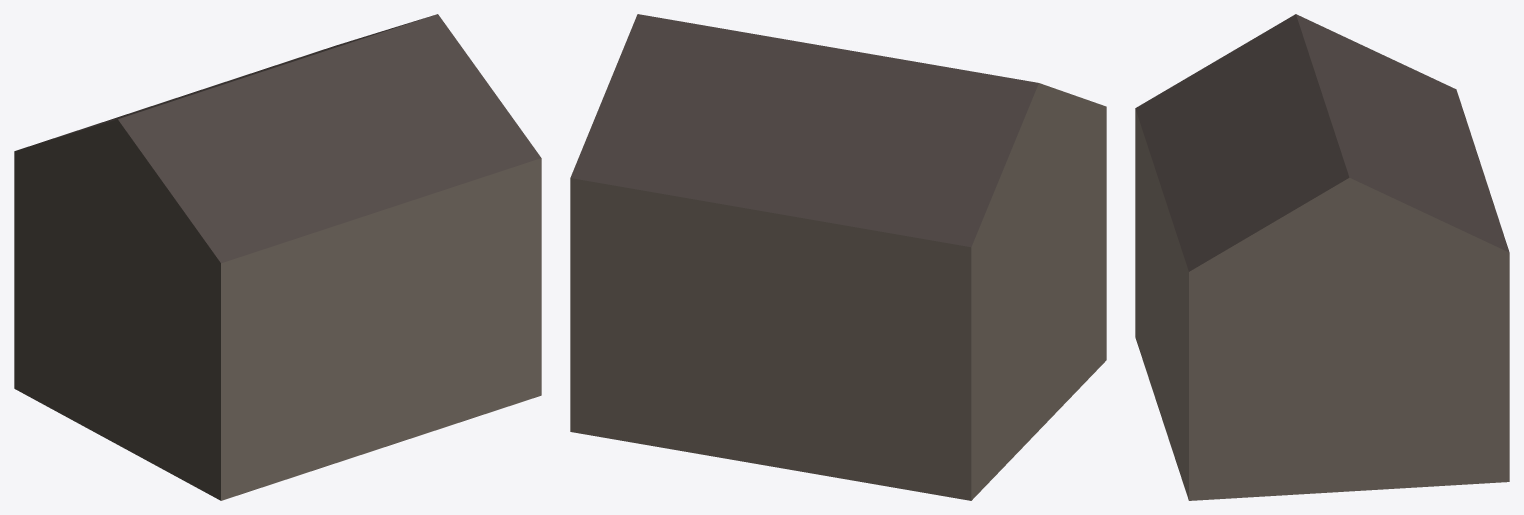
3 views of the same model, side by side, from view 1: azimuth 30°, elevation 25°; view 2: azimuth 150°, elevation 25°; view 3: azimuth 270°, elevation 25° (orthographic). The views are drawn at different scales.
Visible parts, largest first — view 1: HP-w1424106472; view 2: HP-w1424106472; view 3: HP-w1424106472.
Part boxes in pixels (x1,y1,x2,y2): HP-w1424106472: [14, 14, 541, 500]; HP-w1424106472: [570, 14, 1106, 500]; HP-w1424106472: [1135, 14, 1509, 500].
Size of the model in its own units: 10.26 by 8.22 by 8.89.
